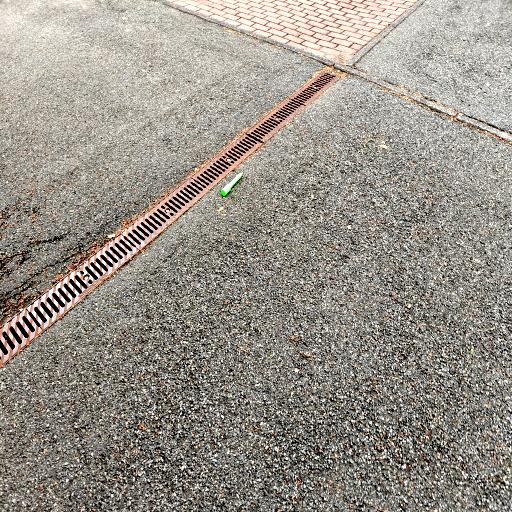Probe-Detection: (221, 173, 243, 196)
